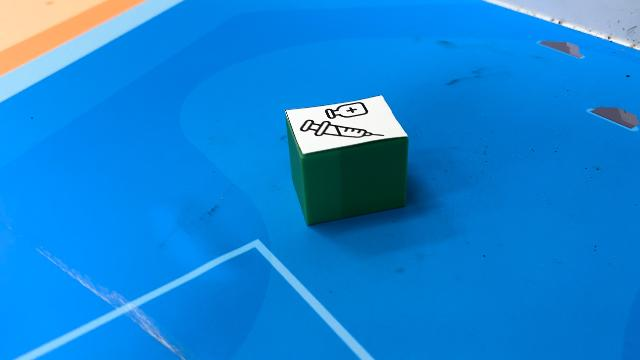syringe: (284, 94, 408, 226)
